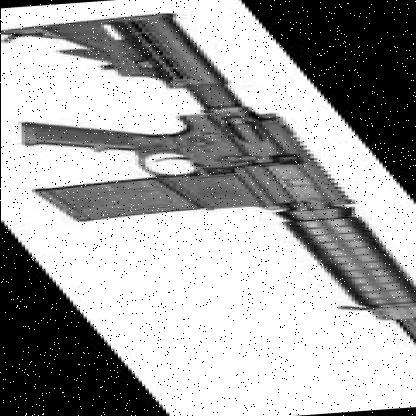rifle: (0, 14, 416, 405)
